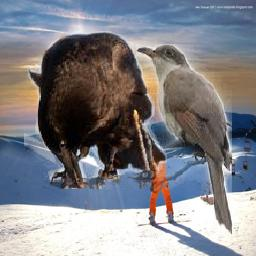Crow: (25, 29, 168, 189)
Cuckoo: (136, 44, 232, 234)
